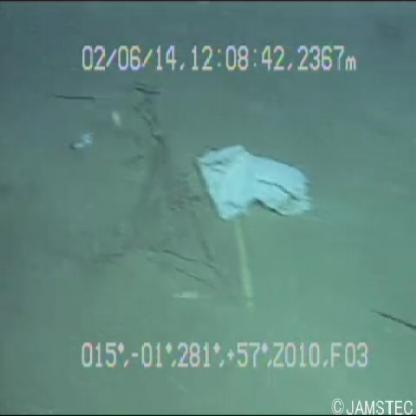Rác: (179, 125, 325, 229)
